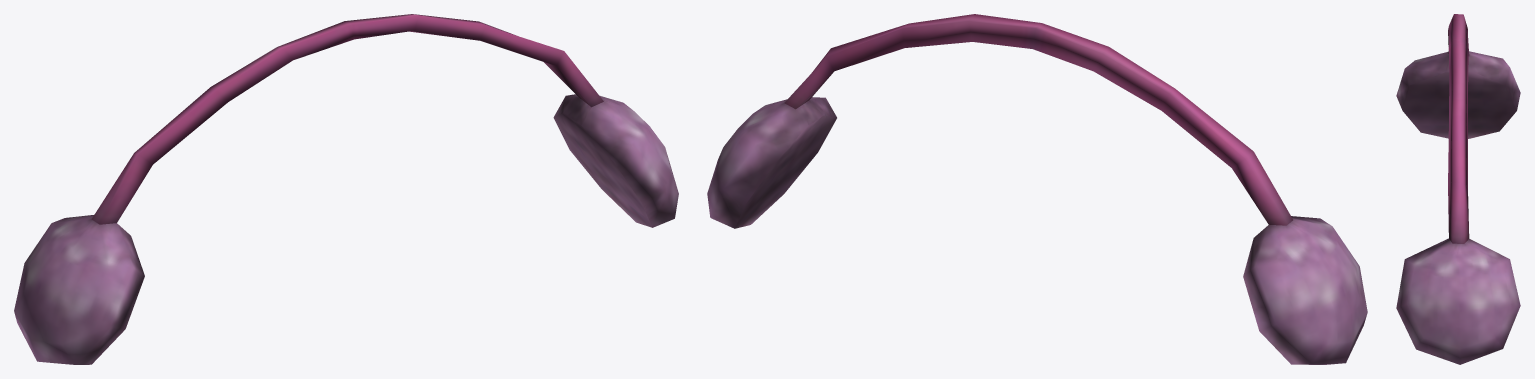
File: earmuff2.glb
The picture shows the model from 3 angles, left to right: view 1: azimuth 30°, elevation 25°; view 2: azimuth 150°, elevation 25°; view 3: azimuth 270°, elevation 25°; orthographic projection. The views are drawn at different scales.
Visible parts, largest first — view 1: earmuff2; view 2: earmuff2; view 3: earmuff2.
Boxes of the visible parts, x1,y1,x2,y2 form: earmuff2: (14, 14, 678, 364); earmuff2: (707, 14, 1367, 364); earmuff2: (1396, 14, 1520, 364).
Bounding box in the file's own units: 1.7 × 0.6954 × 0.3688.
1 material, 1 textured.
